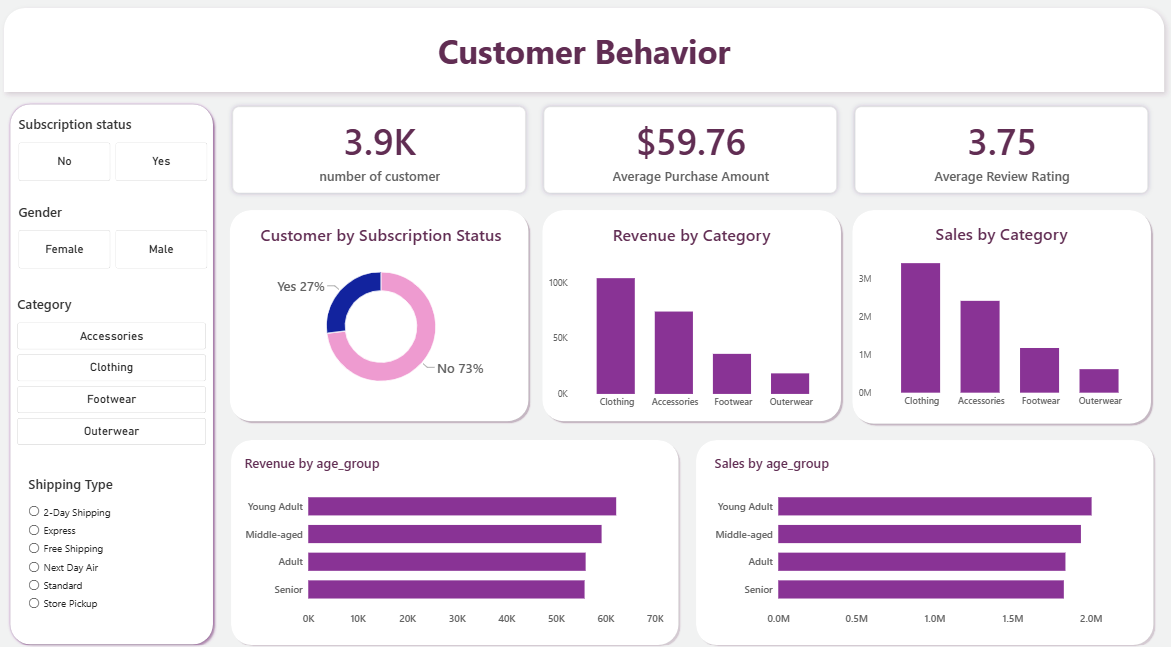

The page's visual inventory and layout, read from the dashboard file:
{"tool":"powerbi","page":{"name":"Page 1","canvas":[1920,1080],"ordinal":0},"visuals":[{"type":"cardVisual","fields":{"Data":["public customer.number of customer","public customer.Average Purchase Amount","public customer.Average Review Rating"]},"box":[375.5,163.3,1516.3,163.3],"z":0},{"type":"shape","box":[0,0,1920.4,163.3],"z":1},{"type":"textbox","box":[0,46.9,1920.4,83.7],"z":2},{"type":"shape","box":[375.5,336.7,500,357.1],"z":3},{"type":"donutChart","title":"Customer by Subscription Status","fields":{"Category":["public customer.subscription_status"],"Y":["CountNonNull(public customer.customer_id)"]},"box":[389.8,351,477.6,314.3],"z":5},{"type":"shape","box":[885.7,336.7,500,357.1],"z":6},{"type":"shape","box":[377.6,712.2,742.9,346.9],"z":7},{"type":"shape","box":[1391.8,336.7,500,361.2],"z":8},{"type":"clusteredColumnChart","title":"Revenue by Category","fields":{"Category":["public customer.category"],"Y":["Sum(public customer.purchase_amount)"]},"box":[885.7,351,500,336.7],"z":9},{"type":"clusteredColumnChart","title":"Sales by Category","fields":{"Category":["public customer.category"],"Y":["Sum(public customer.customer_id)"]},"box":[1391.8,349,500,336.7],"z":10},{"type":"shape","box":[16.3,163.3,344.9,895.9],"z":11},{"type":"advancedSlicerVisual","title":"Subscription status","fields":{"Values":["public customer.subscription_status"]},"box":[36.7,187.8,308.2,108.2],"z":12},{"type":"advancedSlicerVisual","title":"Gender","fields":{"Values":["public customer.gender"]},"box":[36.7,330.6,308.2,108.2],"z":13},{"type":"advancedSlicerVisual","title":"Category","fields":{"Values":["public customer.category"]},"box":[34.7,481.6,308.2,244.9],"z":14},{"type":"listSlicer","title":"Shipping Type","fields":{"Values":["public customer.shipping_type"]},"box":[36.7,761.2,306.1,257.1],"z":15},{"type":"clusteredBarChart","title":"Revenue by age_group","fields":{"Category":["public customer.age_group"],"Y":["Sum(public customer.purchase_amount)"]},"box":[389.8,726.5,716.3,316.3],"z":16},{"type":"shape","box":[1136.7,712.2,759.2,346.9],"z":17},{"type":"clusteredBarChart","title":"Sales by age_group","fields":{"Category":["public customer.age_group"],"Y":["Sum(public customer.customer_id)"]},"box":[1157.1,726.5,716.3,316.3],"z":18}]}

Visuals, with their boxes in screenshot pixels (x1, y1, x2, y2), scaled from the page's 1920x1080 canvas onto the 1171x647 screenshot:
cardVisual - public customer.number of customer x public customer.Average Purchase Amount: 229:98:1154:196
shape: 0:0:1170:98
textbox: 0:28:1170:78
shape: 229:202:534:416
"Customer by Subscription Status" donutChart: 238:210:529:399
shape: 540:202:845:416
shape: 230:427:683:634
shape: 849:202:1154:418
"Revenue by Category" clusteredColumnChart: 540:210:845:412
"Sales by Category" clusteredColumnChart: 849:209:1154:411
shape: 10:98:220:635
"Subscription status" advancedSlicerVisual: 22:113:210:177
"Gender" advancedSlicerVisual: 22:198:210:263
"Category" advancedSlicerVisual: 21:289:209:435
"Shipping Type" listSlicer: 22:456:209:610
"Revenue by age_group" clusteredBarChart: 238:435:675:625
shape: 693:427:1156:634
"Sales by age_group" clusteredBarChart: 706:435:1143:625
